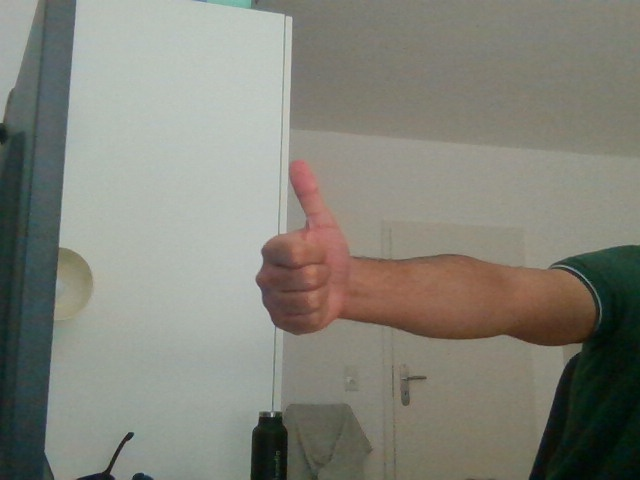Thumbs up: (253, 162, 359, 338)
